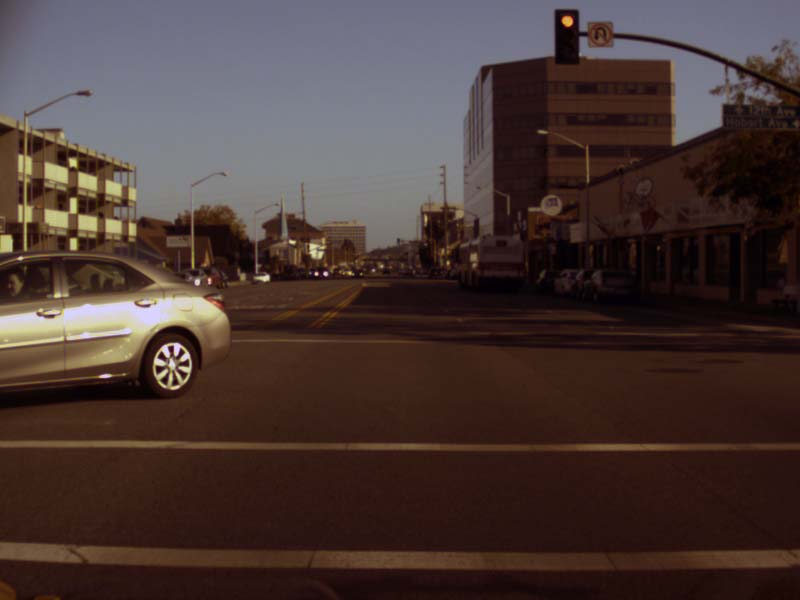Red: (554, 9, 579, 64)
